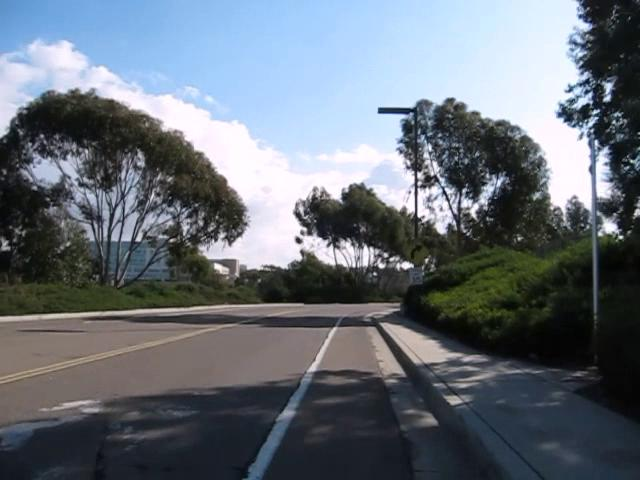speedLimit35: (408, 266, 423, 285)
